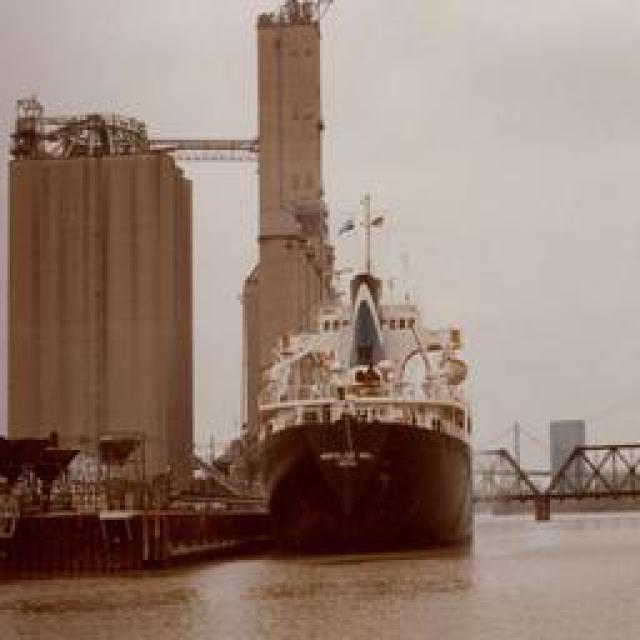Ship: (233, 187, 491, 566)
